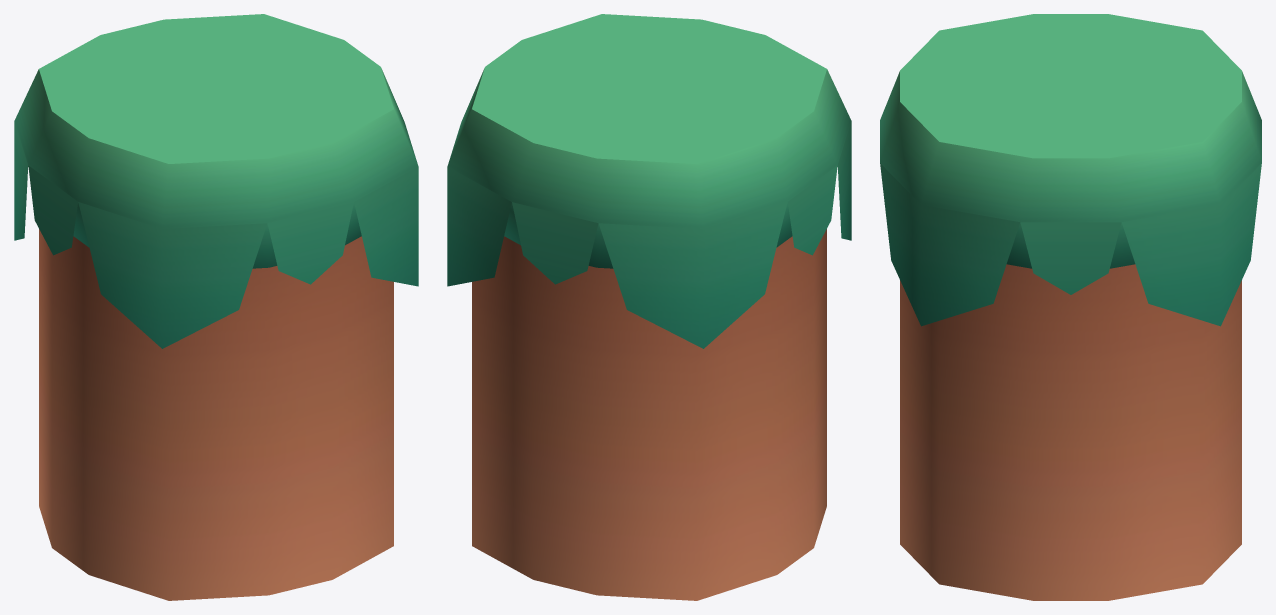
Rendered from kenney-platformer-block-grass-overhang-narrow.glb.
3 renders of one model, left to right at view 1: azimuth 30°, elevation 25°; view 2: azimuth 150°, elevation 25°; view 3: azimuth 270°, elevation 25°, orthographic.
Parts seen in each view (by area): view 1: block-grass-overhang-narrow; view 2: block-grass-overhang-narrow; view 3: block-grass-overhang-narrow.
Boxes of the visible parts, <box> form: block-grass-overhang-narrow: <box>14,14,418,600</box>; block-grass-overhang-narrow: <box>447,14,851,600</box>; block-grass-overhang-narrow: <box>880,14,1261,600</box>.
Bounding box in the file's own units: 0.7821 × 1 × 0.7821.
Materials: 1 (1 with a texture image).
